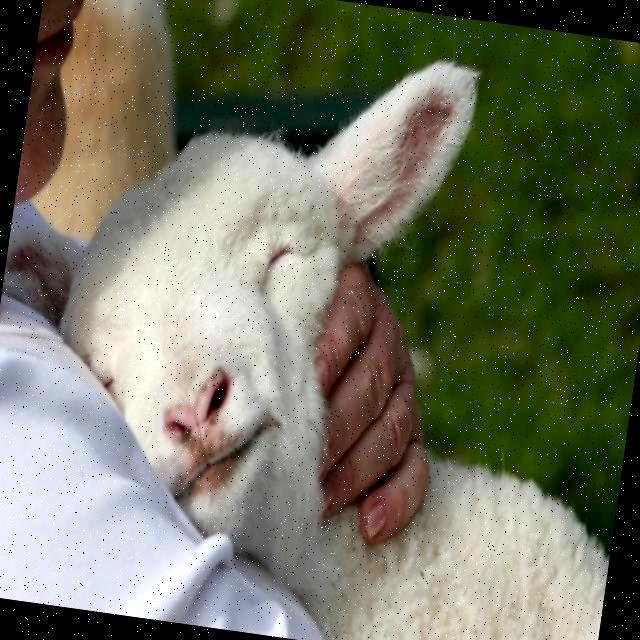sheep: (5, 63, 609, 640)
